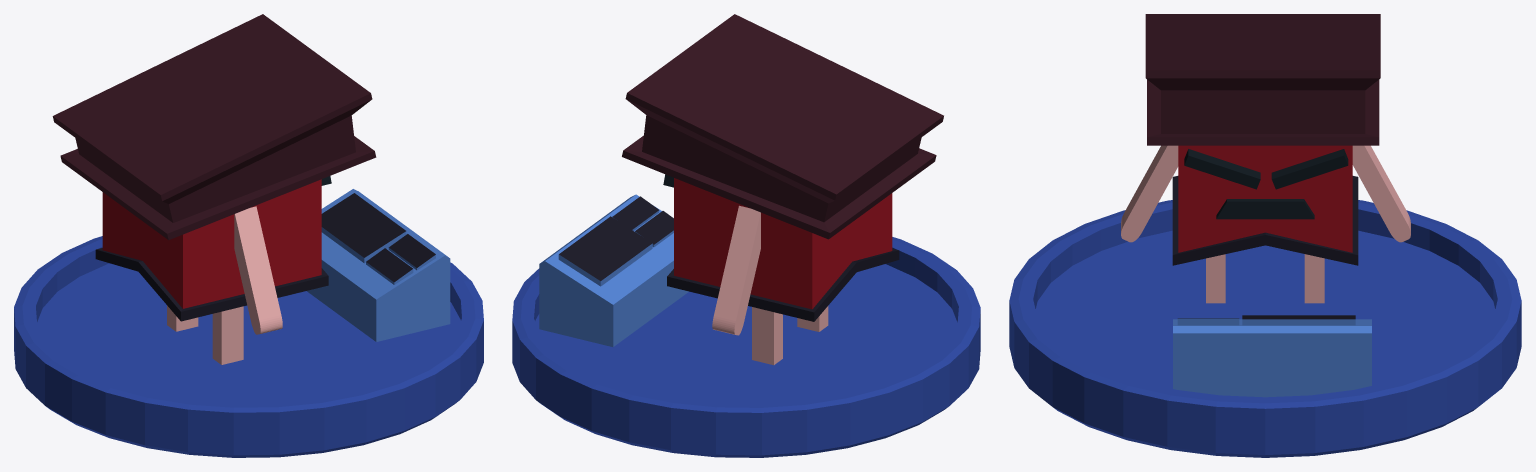
File: Boss.fbx
3 views of the same model, side by side, from view 1: azimuth 30°, elevation 25°; view 2: azimuth 150°, elevation 25°; view 3: azimuth 270°, elevation 25° (orthographic). The views are drawn at different scales.
Parts seen in each view (by area): view 1: SHIP, HAT, BOSS, DECK, LARM, LLEG; view 2: SHIP, HAT, BOSS, DECK, RARM, RLEG; view 3: SHIP, HAT, BOSS, DECK, RARM, LARM, MOUSTACHE, RCIL, LCIL, RLEG, LLEG.
Boxes of the visible parts, x1,y1,x2,y2 form: SHIP: [14, 236, 483, 457]; HAT: [52, 14, 376, 240]; BOSS: [95, 179, 328, 321]; DECK: [307, 189, 450, 341]; LARM: [234, 206, 282, 334]; LLEG: [212, 306, 243, 364]; SHIP: [512, 237, 980, 457]; HAT: [622, 14, 943, 239]; BOSS: [667, 178, 899, 321]; DECK: [539, 194, 688, 346]; RARM: [712, 205, 760, 335]; RLEG: [752, 307, 782, 365]; SHIP: [1009, 200, 1521, 457]; HAT: [1145, 14, 1380, 145]; BOSS: [1172, 145, 1358, 265]; DECK: [1173, 315, 1371, 397]; RARM: [1352, 145, 1410, 242]; LARM: [1121, 145, 1178, 242]; MOUSTACHE: [1216, 199, 1314, 219]; RCIL: [1271, 149, 1348, 189]; LCIL: [1184, 149, 1260, 189]; RLEG: [1304, 254, 1324, 303]; LLEG: [1206, 254, 1225, 303].
Size of the model in its own units: 588 by 432 by 588.
